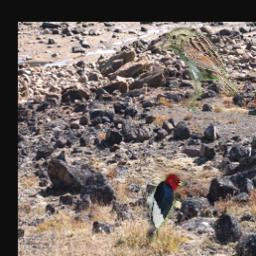Sparrow: (162, 27, 238, 112)
Woodpecker: (141, 174, 187, 244)
